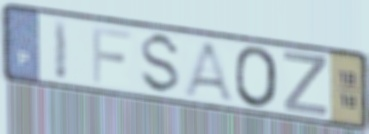A: (180, 40, 238, 105)
F: (90, 24, 134, 86)
I: (51, 16, 70, 83)
O: (232, 44, 280, 110)
S: (137, 31, 184, 97)
Z: (282, 49, 330, 119)
